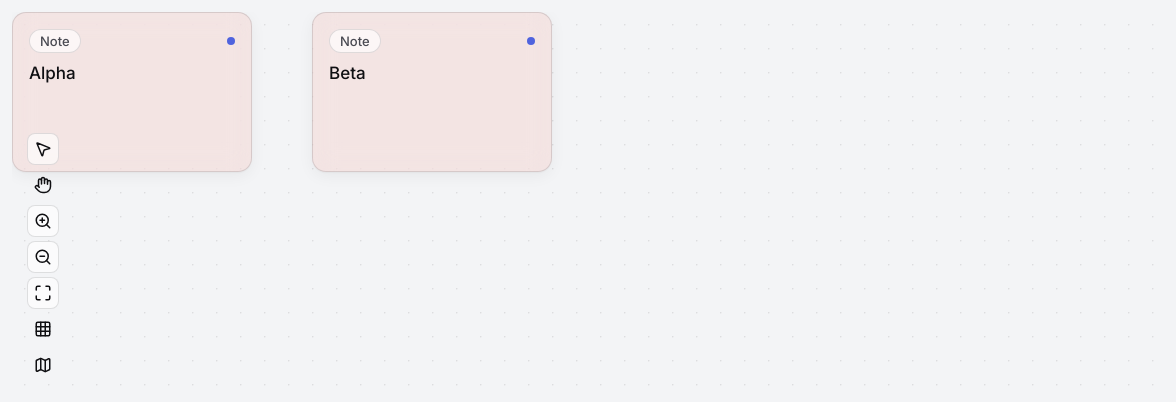
Test case: canvas tools › offers Bring to front, Send to back and Move to… on a card's context menu
Step 1. Right-click the element showing "Note Beta" → coordinates (432, 92), box [312,12,552,172]
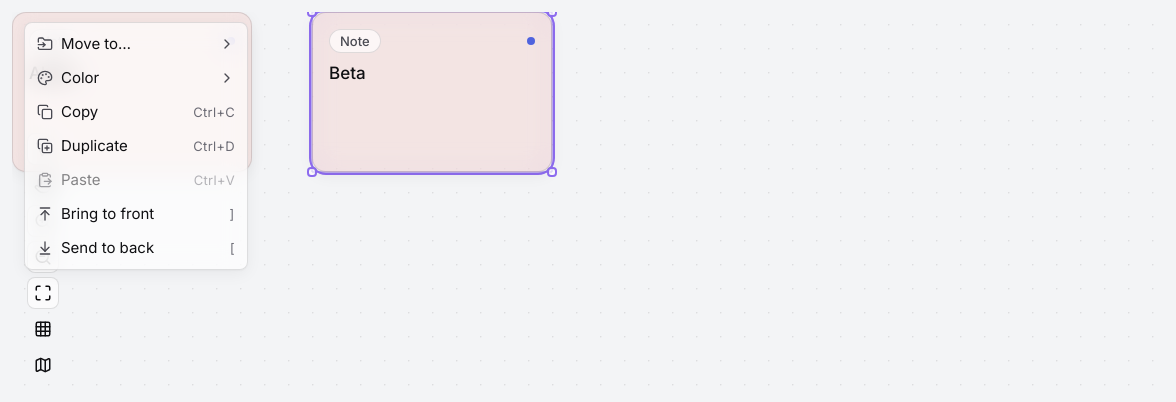
Check: the menu item "Bring to front ]" is shown, box [37,204,235,223]
Check: the menu item "Send to back [" is shown, box [37,238,235,257]
Check: the menu item "Move to…" is shown, box [37,34,235,53]
